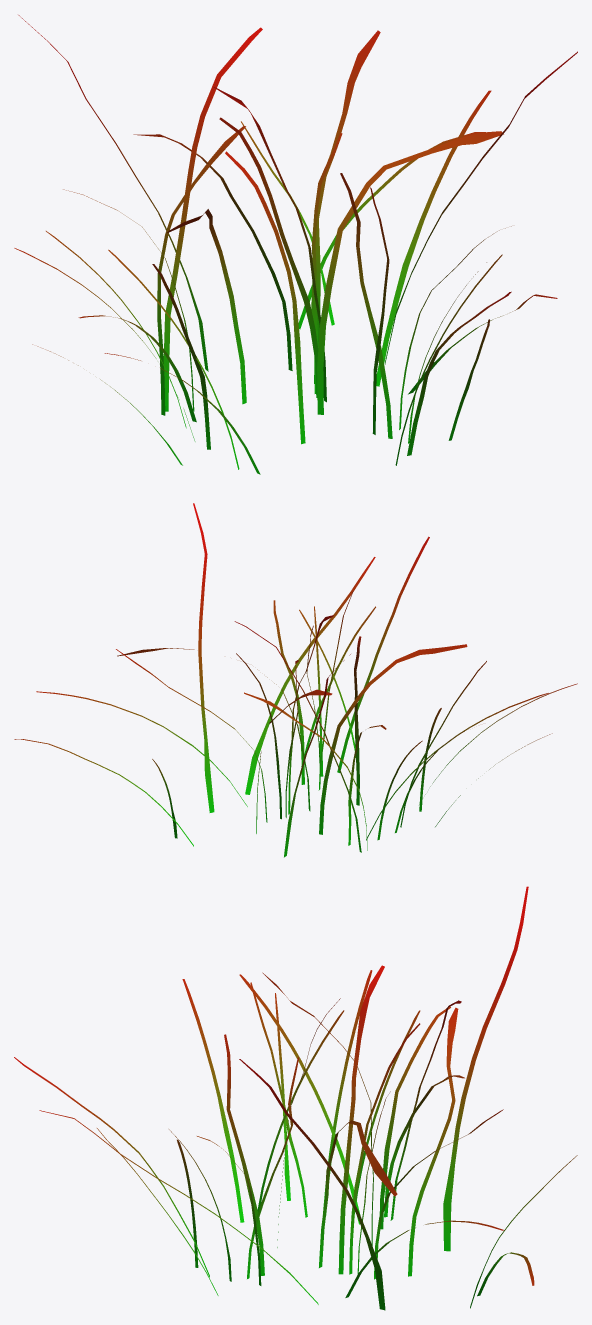
Rendered from Cotton Grass_LOD3_Var6_wlykecdia.fbx.
The picture shows the model from 3 angles, top to bottom: view 1: azimuth 30°, elevation 25°; view 2: azimuth 150°, elevation 25°; view 3: azimuth 270°, elevation 25°; orthographic projection. The views are drawn at different scales.
Visible parts, largest first — view 1: _9gvw_Var6_LOD3; view 2: _9gvw_Var6_LOD3; view 3: _9gvw_Var6_LOD3.
Boxes of the visible parts, x1,y1,x2,y2 form: _9gvw_Var6_LOD3: (14, 15, 577, 474); _9gvw_Var6_LOD3: (14, 503, 577, 857); _9gvw_Var6_LOD3: (14, 886, 577, 1310).
Size of the model in its own units: 25.41 by 14.3 by 23.94.
